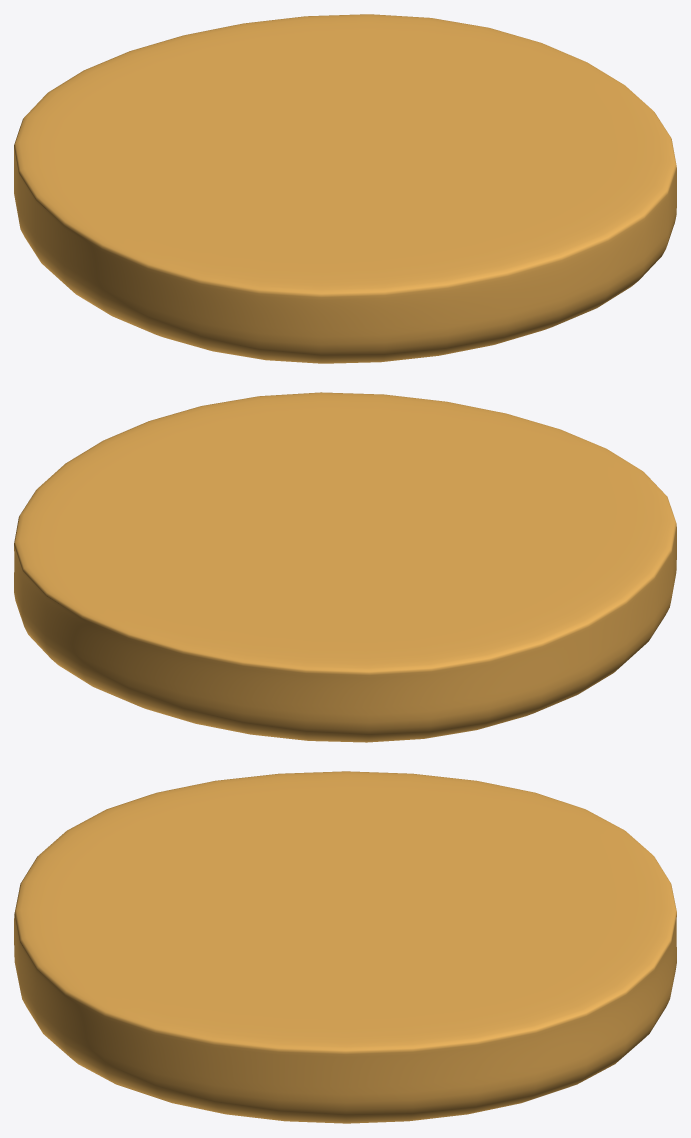
File: BottomBun.glb
The picture shows the model from 3 angles, top to bottom: view 1: azimuth 30°, elevation 25°; view 2: azimuth 150°, elevation 25°; view 3: azimuth 270°, elevation 25°; orthographic projection. The views are drawn at different scales.
Parts seen in each view (by area): view 1: Pan Inferior; view 2: Pan Inferior; view 3: Pan Inferior.
Part boxes in pixels (bbox=[...]): Pan Inferior: bbox=[14, 14, 676, 363]; Pan Inferior: bbox=[14, 392, 676, 742]; Pan Inferior: bbox=[14, 771, 676, 1123].
Bounding box in the file's own units: 1.83 × 0.3506 × 1.83.
